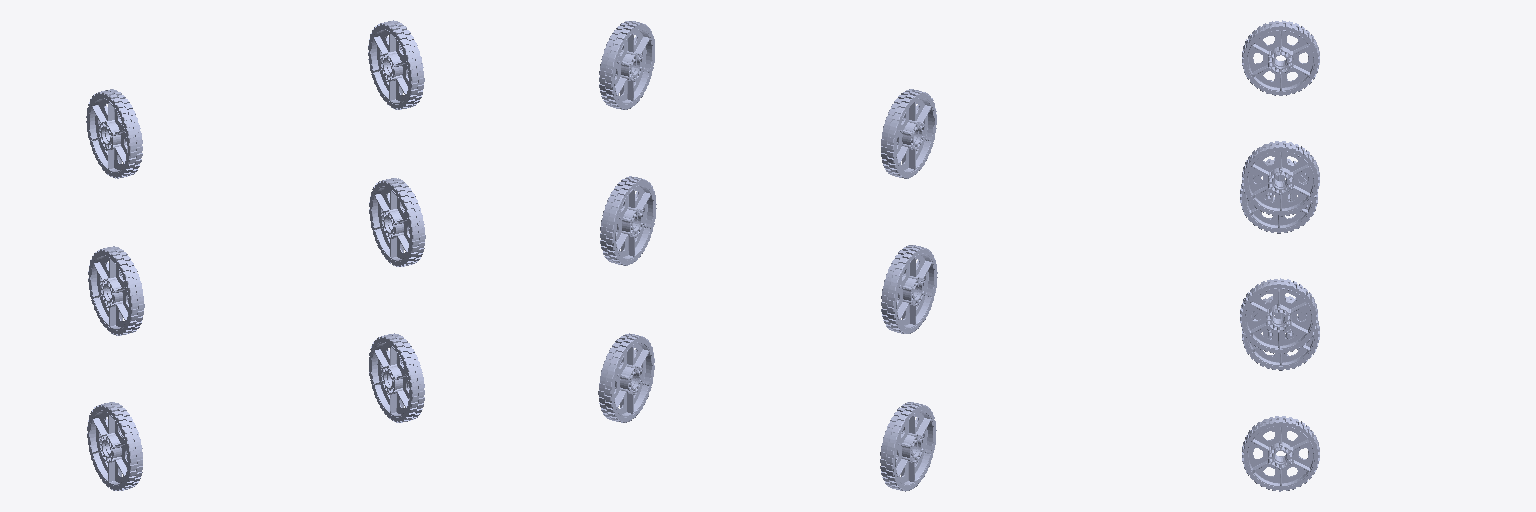
robot.urdf — long_kop:
<?xml version="1.0" encoding="utf-8"?>
<!-- =================================================================================== -->
<!-- |    This document was autogenerated by xacro from robot.xacro                    | -->
<!-- |    EDITING THIS FILE BY HAND IS NOT RECOMMENDED                                 | -->
<!-- =================================================================================== -->
<robot name="long_kop" xmlns:xacro="http://www.ros.org/wiki/xacro">
  <!-- Wheel Generation Macro -->
  <link name="base_parent"/>
  <link name="base_link">
    <inertial>
      <origin rpy="0 0 0" xyz="0.3429 -0.039182 -0.4064"/>
      <mass value="20.00"/>
      <inertia ixx="1.1458" ixy="0" ixz="0" iyy="1.9061" iyz="0" izz="0.80739"/>
    </inertial>
    <visual>
      <origin rpy="0 0 0" xyz="0 0 0"/>
      <geometry>
        <mesh filename="package://kop_description/meshes/visual/small_body.stl"/>
      </geometry>
      <material name="">
        <color rgba="0.79216 0.81961 0.93333 1"/>
      </material>
    </visual>
    <collision>
      <origin rpy="0 0 0" xyz="0.3429 -0.039182 -0.4064"/>
      <geometry>
        <box size="0.6858 0.1188 0.8206"/>
      </geometry>
    </collision>
  </link>
  <joint name="base_parent_joint" type="fixed">
    <origin rpy="0 0 0" xyz="0 0 0"/>
    <parent link="base_parent"/>
    <child link="base_link"/>
  </joint>
  <link name="left_front">
    <inertial>
      <origin rpy="0 0 0" xyz="0 0 0"/>
      <mass value="0.22"/>
      <inertia ixx="1e-1" ixy="0" ixz="0" iyy="1e-1" iyz="0" izz="1e-1"/>
    </inertial>
    <visual>
      <origin rpy="0 0 0" xyz="0 0 0"/>
      <geometry>
        <mesh filename="package://kop_description/meshes/visual/small_wheel.stl"/>
      </geometry>
      <material name="">
        <color rgba="0.792 0.819 0.933 1"/>
      </material>
    </visual>
    <collision>
      <origin rpy="0 1.57079632679 0" xyz="0 0 0"/>
      <geometry>
        <cylinder length="0.0350" radius="0.0762"/>
      </geometry>
    </collision>
  </link>
  <joint name="lf_wheel" type="continuous">
    <origin rpy="0 0 0" xyz="0.0657 -0.0563 -0.701"/>
    <parent link="base_link"/>
    <child link="left_front"/>
    <axis xyz="1 0 0"/>
    <limit effort="2.6" velocity="594"/>
    <dynamics damping="1e-2" friction="1e-1"/>
  </joint>
  <link name="left_middle">
    <inertial>
      <origin rpy="0 0 0" xyz="0 0 0"/>
      <mass value="0.22"/>
      <inertia ixx="1e-1" ixy="0" ixz="0" iyy="1e-1" iyz="0" izz="1e-1"/>
    </inertial>
    <visual>
      <origin rpy="0 0 0" xyz="0 0 0"/>
      <geometry>
        <mesh filename="package://kop_description/meshes/visual/small_wheel.stl"/>
      </geometry>
      <material name="">
        <color rgba="0.792 0.819 0.933 1"/>
      </material>
    </visual>
    <collision>
      <origin rpy="0 1.57079632679 0" xyz="0 0 0"/>
      <geometry>
        <cylinder length="0.0350" radius="0.0762"/>
      </geometry>
    </collision>
  </link>
  <joint name="lm_wheel" type="continuous">
    <origin rpy="0 0 0" xyz="0.0657 -0.0599 -0.4064"/>
    <parent link="base_link"/>
    <child link="left_middle"/>
    <axis xyz="1 0 0"/>
    <limit effort="2.6" velocity="594"/>
    <dynamics damping="1e-2" friction="1e-1"/>
  </joint>
  <link name="left_rear">
    <inertial>
      <origin rpy="0 0 0" xyz="0 0 0"/>
      <mass value="0.22"/>
      <inertia ixx="1e-1" ixy="0" ixz="0" iyy="1e-1" iyz="0" izz="1e-1"/>
    </inertial>
    <visual>
      <origin rpy="0 0 0" xyz="0 0 0"/>
      <geometry>
        <mesh filename="package://kop_description/meshes/visual/small_wheel.stl"/>
      </geometry>
      <material name="">
        <color rgba="0.792 0.819 0.933 1"/>
      </material>
    </visual>
    <collision>
      <origin rpy="0 1.57079632679 0" xyz="0 0 0"/>
      <geometry>
        <cylinder length="0.0350" radius="0.0762"/>
      </geometry>
    </collision>
  </link>
  <joint name="lr_wheel" type="continuous">
    <origin rpy="0 0 0" xyz="0.0646 -0.0563 -0.1113"/>
    <parent link="base_link"/>
    <child link="left_rear"/>
    <axis xyz="1 0 0"/>
    <limit effort="2.6" velocity="594"/>
    <dynamics damping="1e-2" friction="1e-1"/>
  </joint>
  <link name="right_front">
    <inertial>
      <origin rpy="0 0 0" xyz="0 0 0"/>
      <mass value="0.22"/>
      <inertia ixx="1e-1" ixy="0" ixz="0" iyy="1e-1" iyz="0" izz="1e-1"/>
    </inertial>
    <visual>
      <origin rpy="0 0 0" xyz="0 0 0"/>
      <geometry>
        <mesh filename="package://kop_description/meshes/visual/small_wheel.stl"/>
      </geometry>
      <material name="">
        <color rgba="0.792 0.819 0.933 1"/>
      </material>
    </visual>
    <collision>
      <origin rpy="0 1.57079632679 0" xyz="0 0 0"/>
      <geometry>
        <cylinder length="0.0350" radius="0.0762"/>
      </geometry>
    </collision>
  </link>
  <joint name="rf_wheel" type="continuous">
    <origin rpy="0 0 0" xyz="0.6211 -0.0563 -0.7014"/>
    <parent link="base_link"/>
    <child link="right_front"/>
    <axis xyz="1 0 0"/>
    <limit effort="2.6" velocity="594"/>
    <dynamics damping="1e-2" friction="1e-1"/>
  </joint>
  <link name="right_middle">
    <inertial>
      <origin rpy="0 0 0" xyz="0 0 0"/>
      <mass value="0.22"/>
      <inertia ixx="1e-1" ixy="0" ixz="0" iyy="1e-1" iyz="0" izz="1e-1"/>
    </inertial>
    <visual>
      <origin rpy="0 0 0" xyz="0 0 0"/>
      <geometry>
        <mesh filename="package://kop_description/meshes/visual/small_wheel.stl"/>
      </geometry>
      <material name="">
        <color rgba="0.792 0.819 0.933 1"/>
      </material>
    </visual>
    <collision>
      <origin rpy="0 1.57079632679 0" xyz="0 0 0"/>
      <geometry>
        <cylinder length="0.0350" radius="0.0762"/>
      </geometry>
    </collision>
  </link>
  <joint name="rm_wheel" type="continuous">
    <origin rpy="0 0 0" xyz="0.6200 -0.0599 -0.4064"/>
    <parent link="base_link"/>
    <child link="right_middle"/>
    <axis xyz="1 0 0"/>
    <limit effort="2.6" velocity="594"/>
    <dynamics damping="1e-2" friction="1e-1"/>
  </joint>
  <link name="right_rear">
    <inertial>
      <origin rpy="0 0 0" xyz="0 0 0"/>
      <mass value="0.22"/>
      <inertia ixx="1e-1" ixy="0" ixz="0" iyy="1e-1" iyz="0" izz="1e-1"/>
    </inertial>
    <visual>
      <origin rpy="0 0 0" xyz="0 0 0"/>
      <geometry>
        <mesh filename="package://kop_description/meshes/visual/small_wheel.stl"/>
      </geometry>
      <material name="">
        <color rgba="0.792 0.819 0.933 1"/>
      </material>
    </visual>
    <collision>
      <origin rpy="0 1.57079632679 0" xyz="0 0 0"/>
      <geometry>
        <cylinder length="0.0350" radius="0.0762"/>
      </geometry>
    </collision>
  </link>
  <joint name="rr_wheel" type="continuous">
    <origin rpy="0 0 0" xyz="0.6200 -0.0563 -0.1113"/>
    <parent link="base_link"/>
    <child link="right_rear"/>
    <axis xyz="1 0 0"/>
    <limit effort="2.6" velocity="594"/>
    <dynamics damping="1e-2" friction="1e-1"/>
  </joint>
  <transmission name="lf_wheel_trans">
    <type>transmission_interface/SimpleTransmission</type>
    <joint name="lf_wheel">
      <hardwareInterface>hardware_interface/EffortJointInterface</hardwareInterface>
    </joint>
    <actuator name="lf_wheel_actuator">
      <mechanicalReduction>5</mechanicalReduction>
    </actuator>
  </transmission>
  <transmission name="lm_wheel_trans">
    <type>transmission_interface/SimpleTransmission</type>
    <joint name="lm_wheel">
      <hardwareInterface>hardware_interface/EffortJointInterface</hardwareInterface>
    </joint>
    <actuator name="lm_wheel_actuator">
      <mechanicalReduction>5</mechanicalReduction>
    </actuator>
  </transmission>
  <transmission name="lr_wheel_trans">
    <type>transmission_interface/SimpleTransmission</type>
    <joint name="lr_wheel">
      <hardwareInterface>hardware_interface/EffortJointInterface</hardwareInterface>
    </joint>
    <actuator name="lr_wheel_actuator">
      <mechanicalReduction>5</mechanicalReduction>
    </actuator>
  </transmission>
  <transmission name="rf_wheel_trans">
    <type>transmission_interface/SimpleTransmission</type>
    <joint name="rf_wheel">
      <hardwareInterface>hardware_interface/EffortJointInterface</hardwareInterface>
    </joint>
    <actuator name="rf_wheel_actuator">
      <mechanicalReduction>5</mechanicalReduction>
    </actuator>
  </transmission>
  <transmission name="rm_wheel_trans">
    <type>transmission_interface/SimpleTransmission</type>
    <joint name="rm_wheel">
      <hardwareInterface>hardware_interface/EffortJointInterface</hardwareInterface>
    </joint>
    <actuator name="rm_wheel_actuator">
      <mechanicalReduction>5</mechanicalReduction>
    </actuator>
  </transmission>
  <transmission name="rr_wheel_trans">
    <type>transmission_interface/SimpleTransmission</type>
    <joint name="rr_wheel">
      <hardwareInterface>hardware_interface/EffortJointInterface</hardwareInterface>
    </joint>
    <actuator name="rr_wheel_actuator">
      <mechanicalReduction>5</mechanicalReduction>
    </actuator>
  </transmission>
  <joint name="hokuyo_joint" type="fixed">
    <origin rpy="1.57079632679 1.57079632679 3.14159265359" xyz="0.3429 0.0550 -0.7906"/>
    <parent link="base_link"/>
    <child link="hokuyo_frame"/>
  </joint>
  <link name="hokuyo_frame">
    <inertial>
      <mass value="0.270"/>
      <origin rpy="0 0 0" xyz="0 0 0"/>
      <inertia ixx="2.632e-4" ixy="0" ixz="0" iyy="2.632e-4" iyz="0" izz="1.62e-4"/>
    </inertial>
    <visual>
      <origin rpy="0 0 0" xyz="0 0 0"/>
      <geometry>
        <mesh filename="package://kop_description/meshes/hokuyo_model.dae"/>
      </geometry>
    </visual>
    <collision>
      <origin rpy="0 0 0" xyz="0 0 -0.0115"/>
      <geometry>
        <box size="0.058 0.058 0.087"/>
      </geometry>
    </collision>
  </link>
  <gazebo reference="hokuyo_frame">
    <sensor name="hokuyo" type="ray">
      <always_on>true</always_on>
      <update_rate>40</update_rate>
      <pose>0 0 0 0 0 0</pose>
      <visualize>false</visualize>
      <ray>
        <scan>
          <horizontal>
            <samples>1040</samples>
            <resolution>1</resolution>
            <min_angle>2.26892802759</min_angle>
            <max_angle>-2.26892802759</max_angle>
          </horizontal>
        </scan>
        <range>
          <min>0.08</min>
          <max>30.0</max>
          <resolution>0.01</resolution>
        </range>
      </ray>
      <plugin filename="libgazebo_ros_laser.so" name="gazebo_ros_hokuyo_controller">
        <gaussianNoise>0.005</gaussianNoise>
        <alwaysOn>true</alwaysOn>
        <updateRate>40</updateRate>
        <topicName>/sensors/hokuyo_scan</topicName>
        <frameName>hokuyo_frame</frameName>
      </plugin>
    </sensor>
  </gazebo>
  <gazebo>
    <plugin filename="libgazebo_ros_control.so" name="gazebo_ros_control">
      <robotNamespace>/kop</robotNamespace>
    </plugin>
  </gazebo>
</robot>

--- What the picture shows (computed from the rendered views, not written in the file) ---
3 views of the same robot in one strip: view 1: azimuth 30°, elevation 25°; view 2: azimuth 150°, elevation 25°; view 3: azimuth 270°, elevation 25° (orthographic).
Model long_kop with 9 links and 8 joints (6 continuous, 2 fixed), rooted at base_parent, posed every joint at zero.
Visible links, largest first — view 1: right_front, left_rear, right_middle, left_middle, right_rear, left_front; view 2: right_middle, left_front, left_middle, right_rear, right_front, left_rear; view 3: left_rear, right_rear, right_front, right_middle, left_middle, left_front.
Boxes of the visible links, x1,y1,x2,y2 form: right_front: (369, 333, 424, 422); left_rear: (86, 89, 142, 178); right_middle: (369, 178, 425, 266); left_middle: (88, 246, 144, 335); right_rear: (368, 20, 424, 109); left_front: (87, 402, 142, 490); right_middle: (600, 176, 656, 265); left_front: (880, 402, 936, 491); left_middle: (881, 245, 937, 333); right_rear: (599, 21, 654, 109); right_front: (598, 333, 654, 422); left_rear: (881, 89, 936, 178); left_rear: (1242, 20, 1319, 95); right_rear: (1242, 141, 1319, 216); right_front: (1242, 416, 1319, 491); right_middle: (1240, 278, 1317, 353); left_middle: (1240, 158, 1317, 233); left_front: (1242, 296, 1319, 370).
Size in the robot's own frame: 0.5923 by 0.1559 by 0.7424 metres.
Meshes: 3 distinct files referenced, 6 mesh visuals loaded (1 binary STL); not drawn: 2 (reference not matched to a file when rendering).
